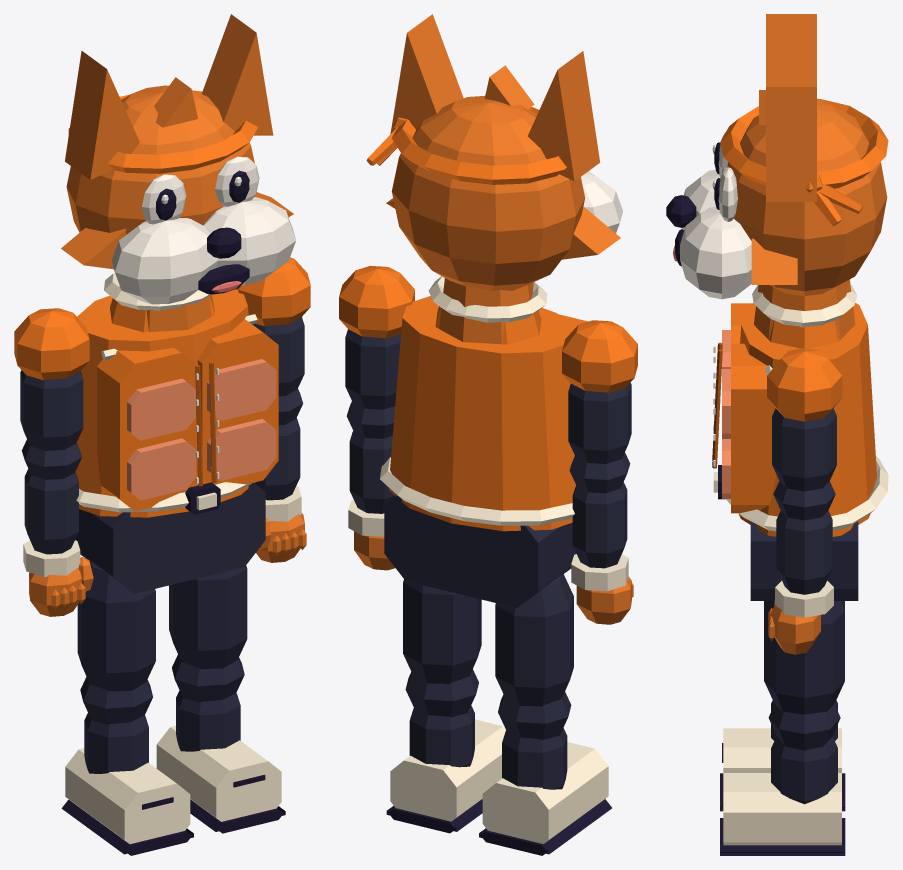
3 renders of one model, left to right at view 1: azimuth 30°, elevation 25°; view 2: azimuth 150°, elevation 25°; view 3: azimuth 270°, elevation 25°, orthographic.
Visible parts, largest first — view 1: head_fur, torso_padded_vest, torso_vest_quilt, hips_trousers, head_fur_secondary, thigh_r_trousers, shin_r_trim_belt_boots, shin_l_trim_belt_boots, thigh_l_trousers, forearm_r_shirt_sleeves, shin_l_trousers, shin_r_trousers (+18 smaller); view 2: head_fur, torso_padded_vest, hips_trousers, thigh_r_trousers, shin_r_trim_belt_boots, thigh_l_trousers, shin_l_trim_belt_boots, forearm_r_shirt_sleeves, shin_r_trousers, shin_l_trousers, torso_trim_belt_boots, upperarm_r_padded_vest (+13 smaller); view 3: head_fur, torso_padded_vest, shin_l_trim_belt_boots, thigh_l_trousers, head_fur_secondary, forearm_l_shirt_sleeves, shin_l_trousers, head_padded_vest, upperarm_l_shirt_sleeves, upperarm_l_padded_vest, hips_trousers, torso_trim_belt_boots (+9 smaller).
Boxes of the visible parts, x1,y1,x2,y2 form: head_fur: (61,14,293,269); torso_padded_vest: (75,286,278,517); torso_vest_quilt: (127,359,276,500); hips_trousers: (75,482,265,593); head_fur_secondary: (111,197,295,304); thigh_r_trousers: (77,561,155,691); shin_r_trim_belt_boots: (65,748,190,843); shin_l_trim_belt_boots: (156,726,281,821); thigh_l_trousers: (169,565,247,669); forearm_r_shirt_sleeves: (21,439,81,554); shin_l_trousers: (172,655,244,751); shin_r_trousers: (80,677,152,773); head_fur: (386,14,620,290); torso_padded_vest: (388,296,587,531); hips_trousers: (384,495,576,607); thigh_r_trousers: (495,573,573,706); shin_r_trim_belt_boots: (482,742,608,843); thigh_l_trousers: (403,579,481,683); shin_l_trim_belt_boots: (390,719,505,821); forearm_r_shirt_sleeves: (569,452,630,568); shin_r_trousers: (498,692,571,789); shin_l_trousers: (405,669,478,767); torso_trim_belt_boots: (380,276,574,525); upperarm_r_padded_vest: (562,320,637,392); head_fur: (727,14,887,295); torso_padded_vest: (731,303,876,536); shin_l_trim_belt_boots: (723,773,841,845); thigh_l_trousers: (764,601,844,714); head_fur_secondary: (680,169,751,299); forearm_l_shirt_sleeves: (773,481,835,594); shin_l_trousers: (768,704,840,804); head_padded_vest: (720,99,888,225); upperarm_l_shirt_sleeves: (772,408,836,491); upperarm_l_padded_vest: (767,348,842,421); hips_trousers: (750,521,858,600); torso_trim_belt_boots: (713,284,888,531).
Size of the model in its own units: 0.7607 by 1.93 by 0.5053.
